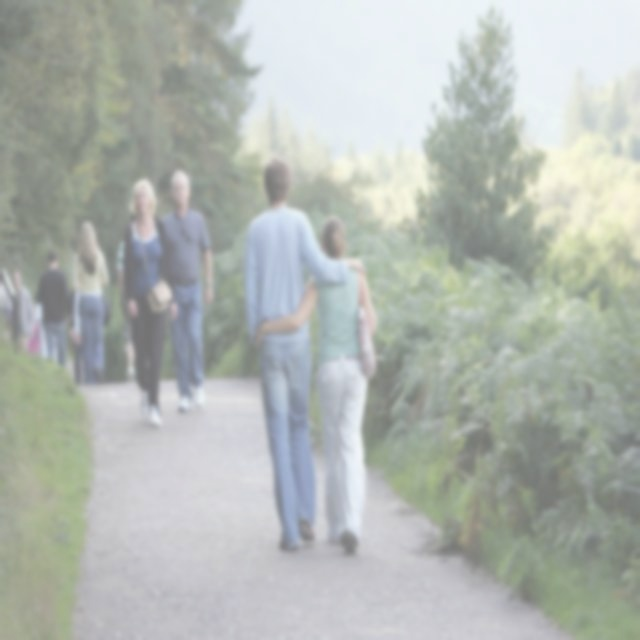pessoa: (238, 154, 369, 556), (250, 207, 381, 558), (154, 166, 216, 414), (122, 176, 178, 425), (72, 218, 110, 386), (1, 250, 50, 362), (34, 248, 74, 368), (115, 212, 138, 384), (68, 282, 89, 387)
